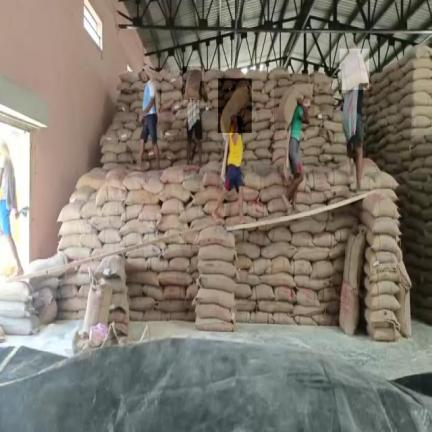Zone-Counting: (212, 84, 249, 219), (279, 84, 313, 211), (341, 43, 369, 188)
